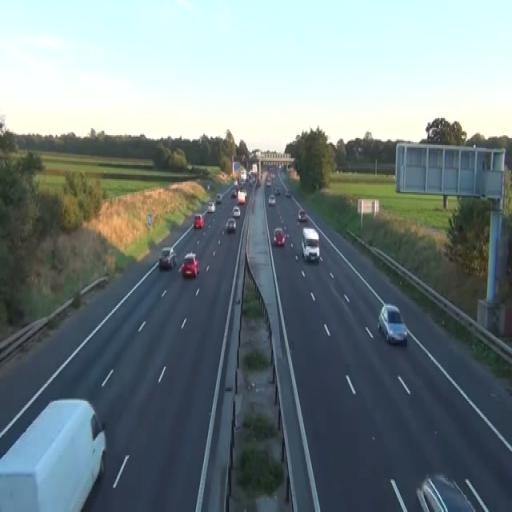Car: (415, 473, 478, 512), (377, 304, 408, 345), (181, 253, 200, 279), (158, 248, 177, 270), (274, 227, 286, 247), (226, 218, 236, 234), (237, 189, 247, 205), (194, 214, 204, 230), (298, 210, 307, 222), (268, 194, 276, 207), (232, 206, 240, 218)
Truck: (0, 398, 108, 511), (301, 227, 320, 262)
